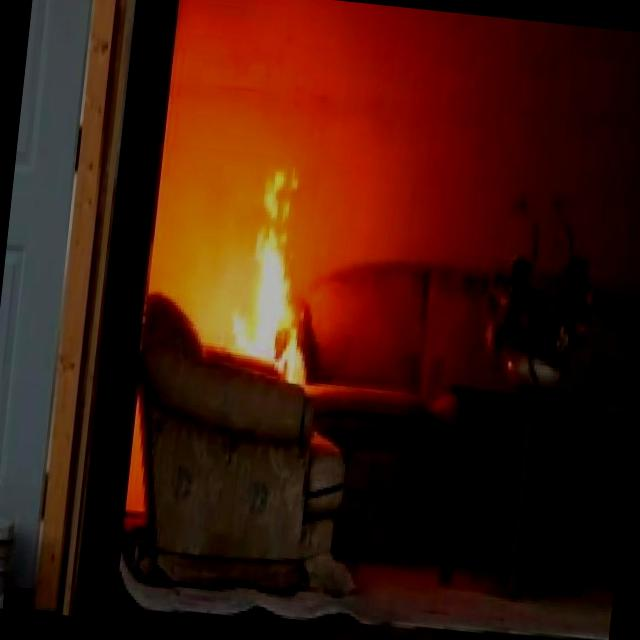fire: (224, 149, 334, 376)
